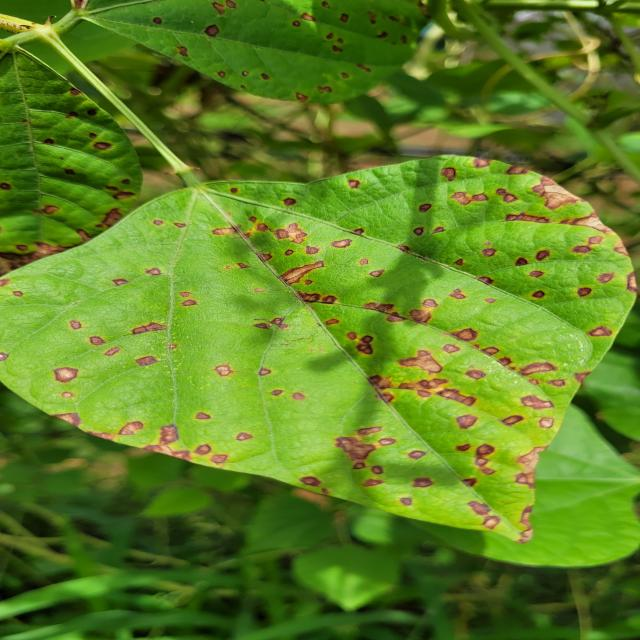Dolicos bean_cercospora leaf spot: (0, 149, 640, 542)
